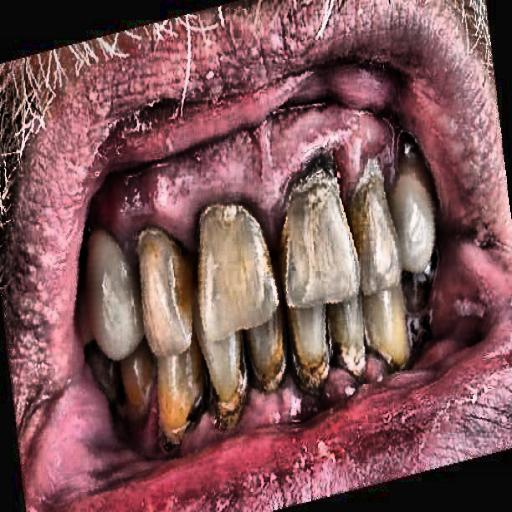Calculus: (99, 185, 435, 389)
